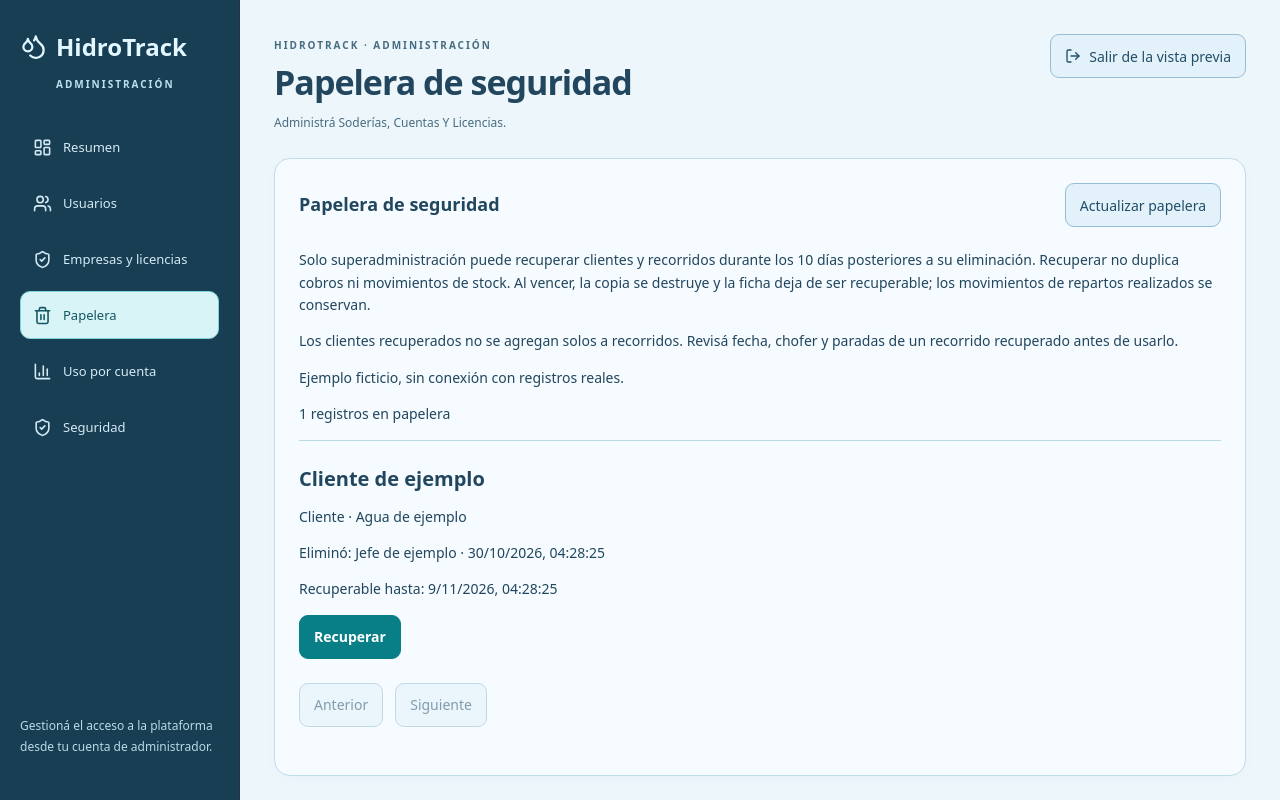
Test case: enlace directo del superadmin abre papelera al entrar y permite volver al resumen
Expected: the element "Papelera de seguridad" is shown, [274, 158, 1246, 776]
Click the button "Resumen". click: {"x": 120, "y": 147}
box: [20, 123, 219, 171]
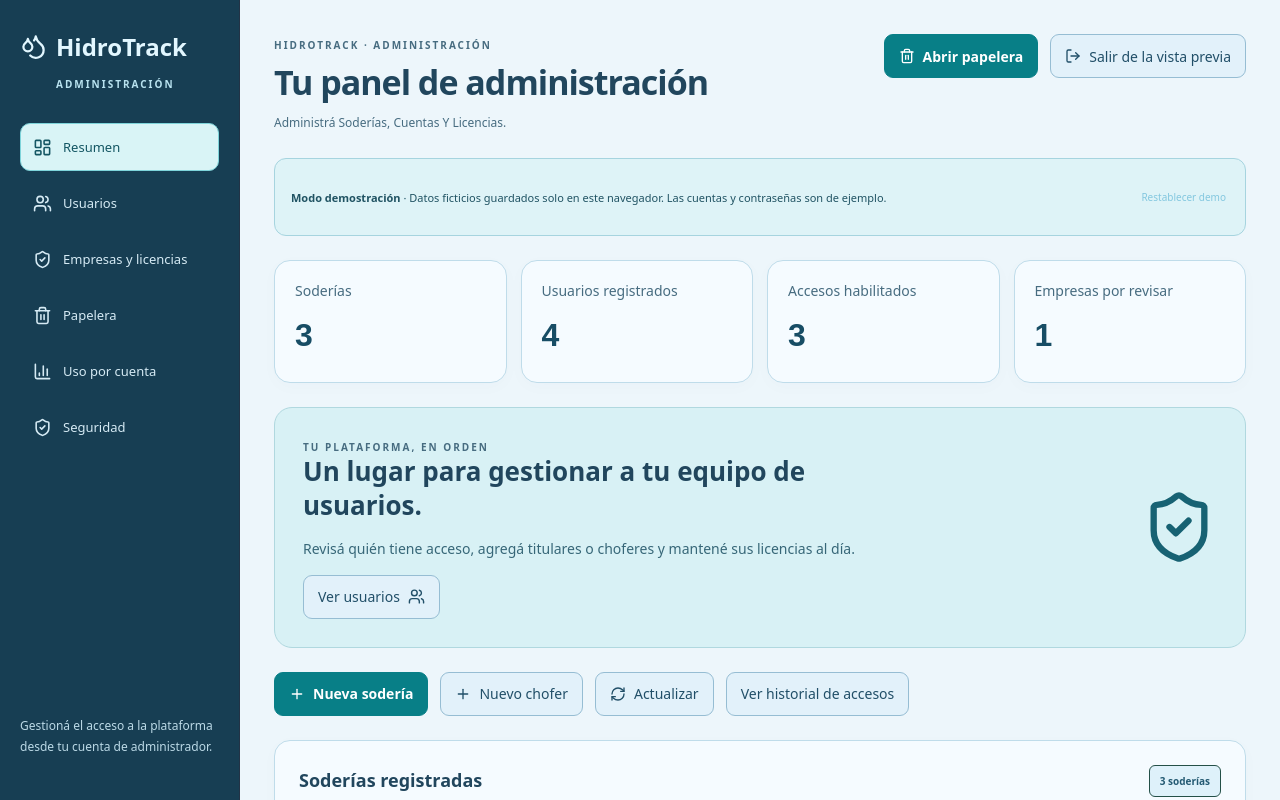
Expected: the button "Abrir papelera" is shown, [884, 34, 1038, 78]
Expected: the heading "Papelera de seguridad" is gone
